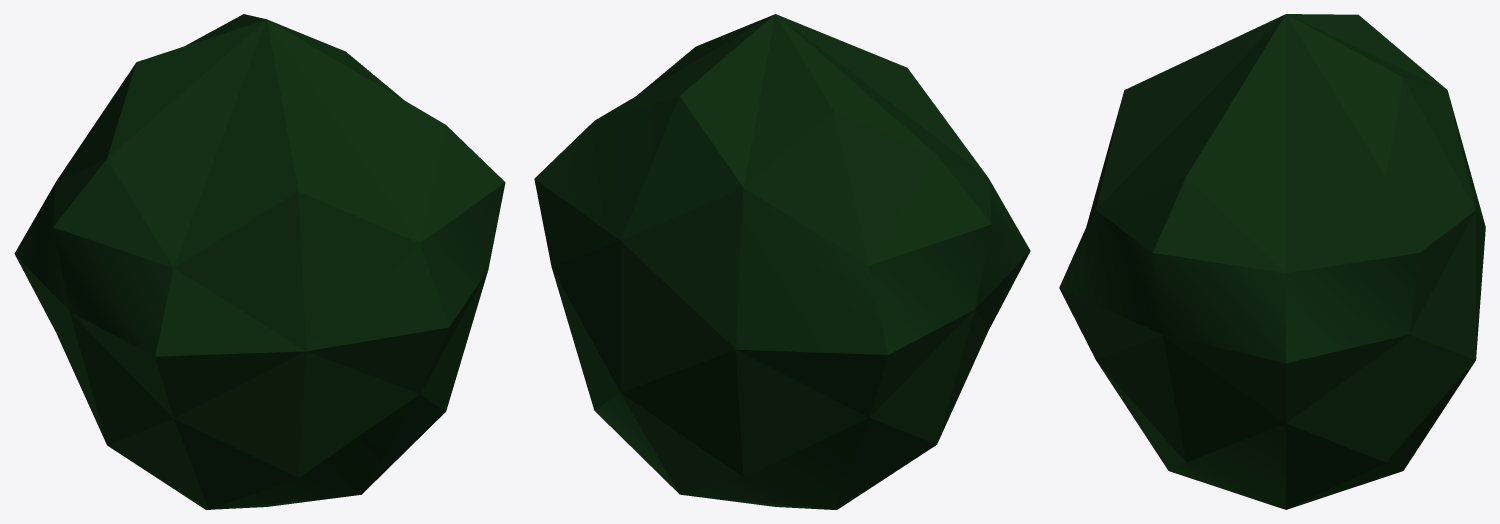
The model's file is DarkGreenBush_v1.fbx.
The picture shows the model from 3 angles, left to right: view 1: azimuth 30°, elevation 25°; view 2: azimuth 150°, elevation 25°; view 3: azimuth 270°, elevation 25°; orthographic projection.
Visible parts, largest first — view 1: pSphere12; view 2: pSphere12; view 3: pSphere12.
Part boxes in pixels (box(x1,y1,x2,y2)): pSphere12: box(14, 14, 505, 509); pSphere12: box(534, 14, 1030, 509); pSphere12: box(1059, 14, 1485, 509).
Bounding box in the file's own units: 0.0701 × 0.0747 × 0.0595.
